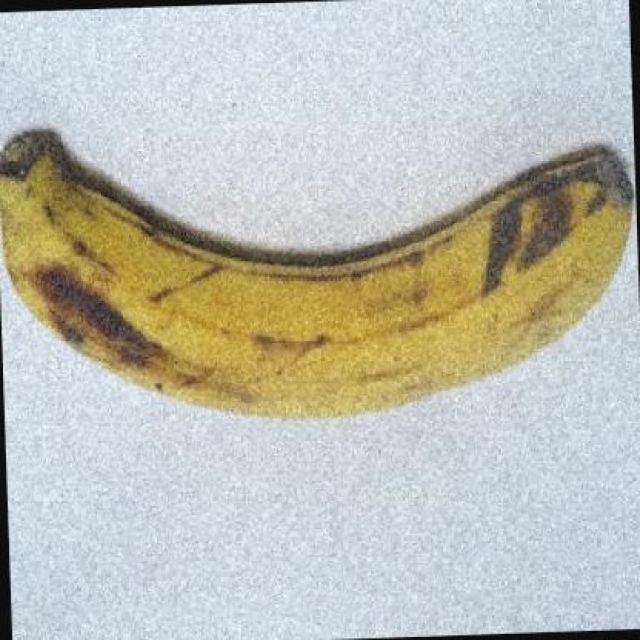Overripe: (0, 89, 640, 447)
